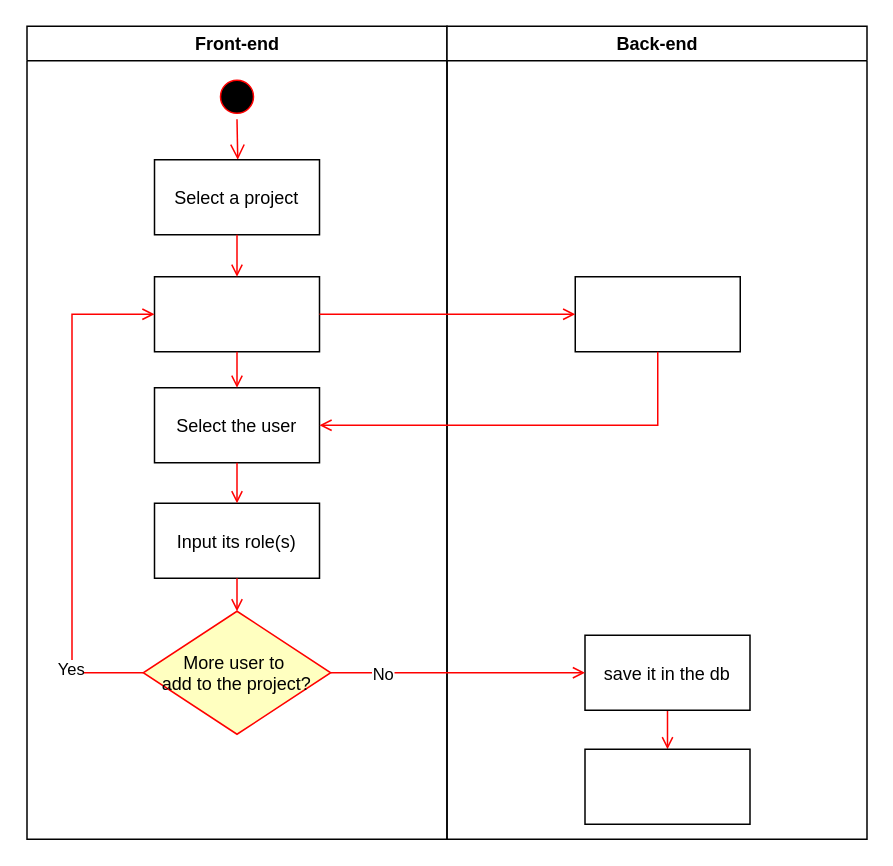
The diagram is 893 pixels wide and 866 high, and some of its shapes have lost their labels. Here are the shapes that lost their labels. From the top down, the centre of each, then its label:
[236,313]: Add email
[657,313]: Process the availability of the users
[667,786]: Add the project to the added users account
